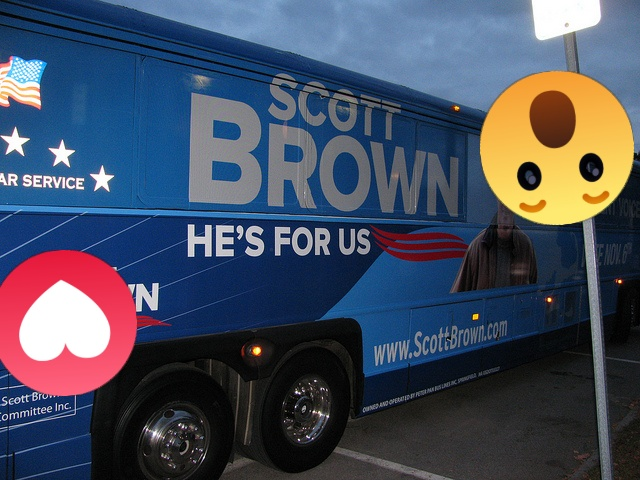love: (0, 250, 137, 396)
wow: (480, 71, 634, 225)
